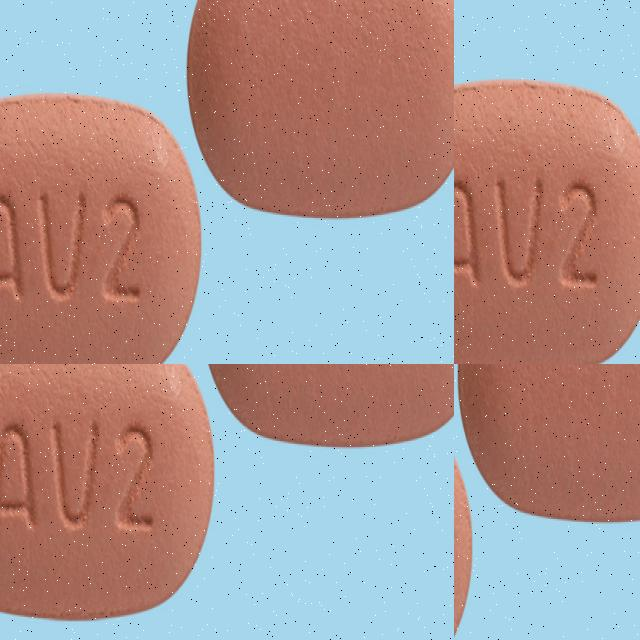Exviera: (458, 364, 640, 521)
Flomox: (517, 191, 640, 364)
Max-xacin: (67, 221, 224, 364)
Zeffix Tab: (0, 364, 207, 620), (204, 364, 454, 432)
